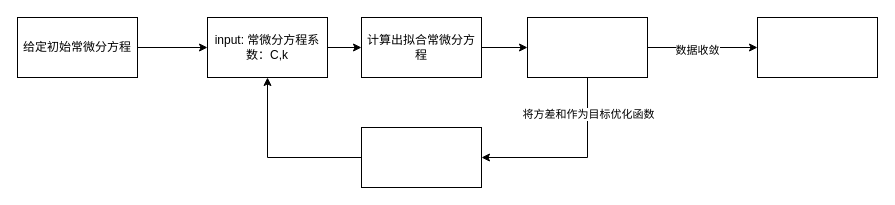
This 895x205 diagram has some shape labels left out. The centre of each missing label's shape, as x and y in pixels:
组合优化方法: pixel 421 157
计算拟合方程与原数据点的方差和: pixel 587 47
